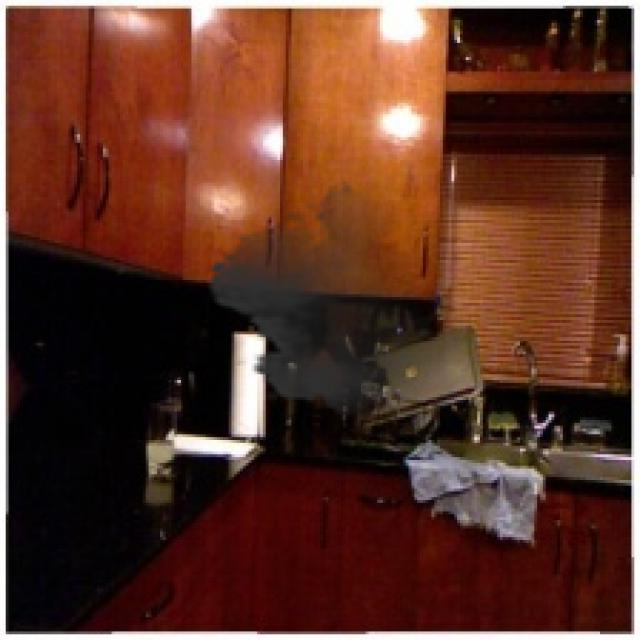smoke: (197, 177, 477, 423)
